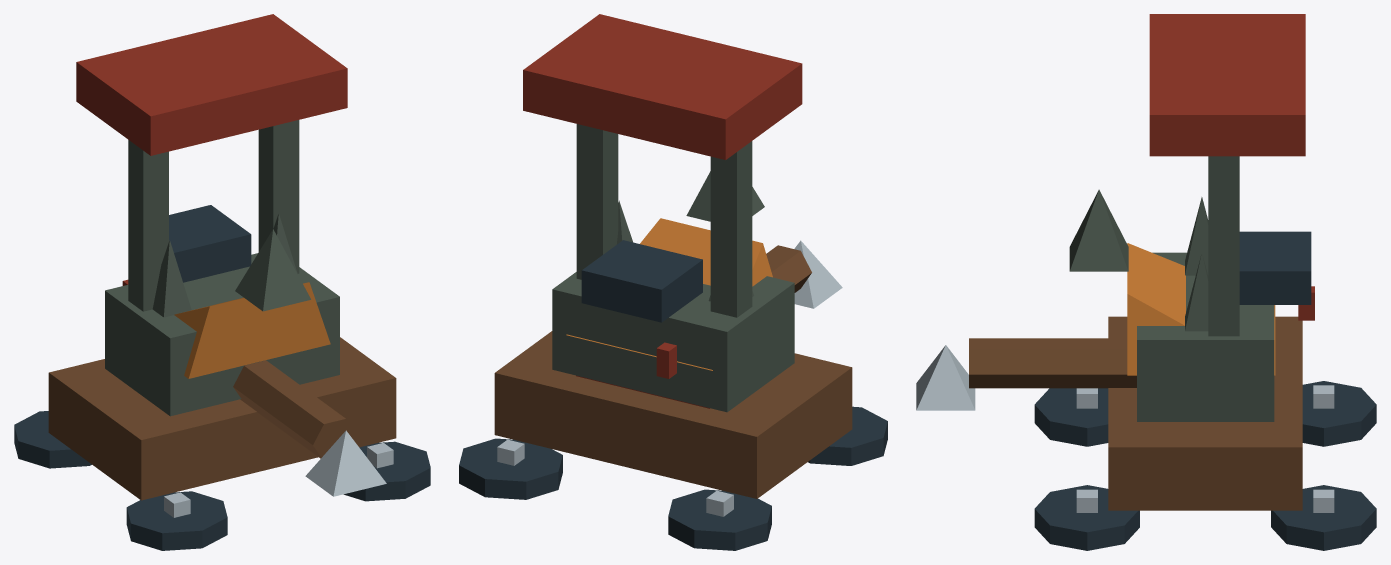
Rendered from siege-tower.obj.
The picture shows the model from 3 angles, left to right: view 1: azimuth 30°, elevation 25°; view 2: azimuth 150°, elevation 25°; view 3: azimuth 270°, elevation 25°; orthographic projection. The views are drawn at different scales.
Parts seen in each view (by area): view 1: siege; view 2: siege; view 3: siege.
Boxes of the visible parts, left/top/right/bottom form: siege: left=14, top=14, right=430, bottom=550; siege: left=459, top=14, right=887, bottom=550; siege: left=916, top=14, right=1376, bottom=550.
Size of the model in its own units: 1.95 by 2.47 by 2.51.
